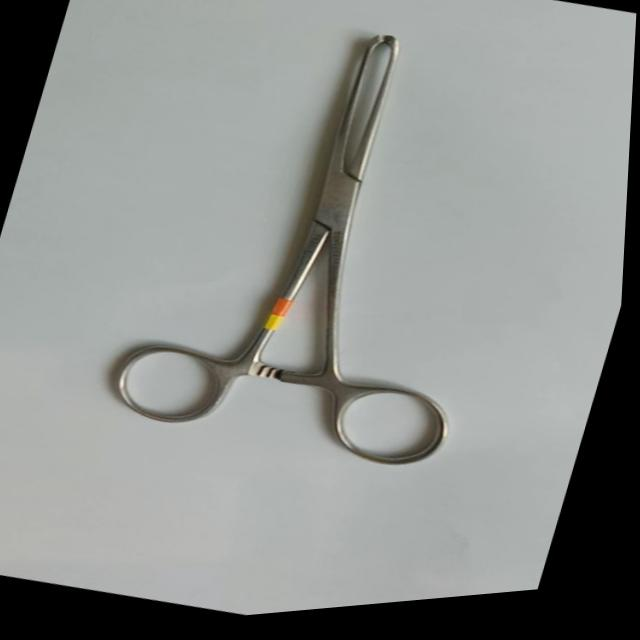AllisForcep: (87, 0, 562, 511)
